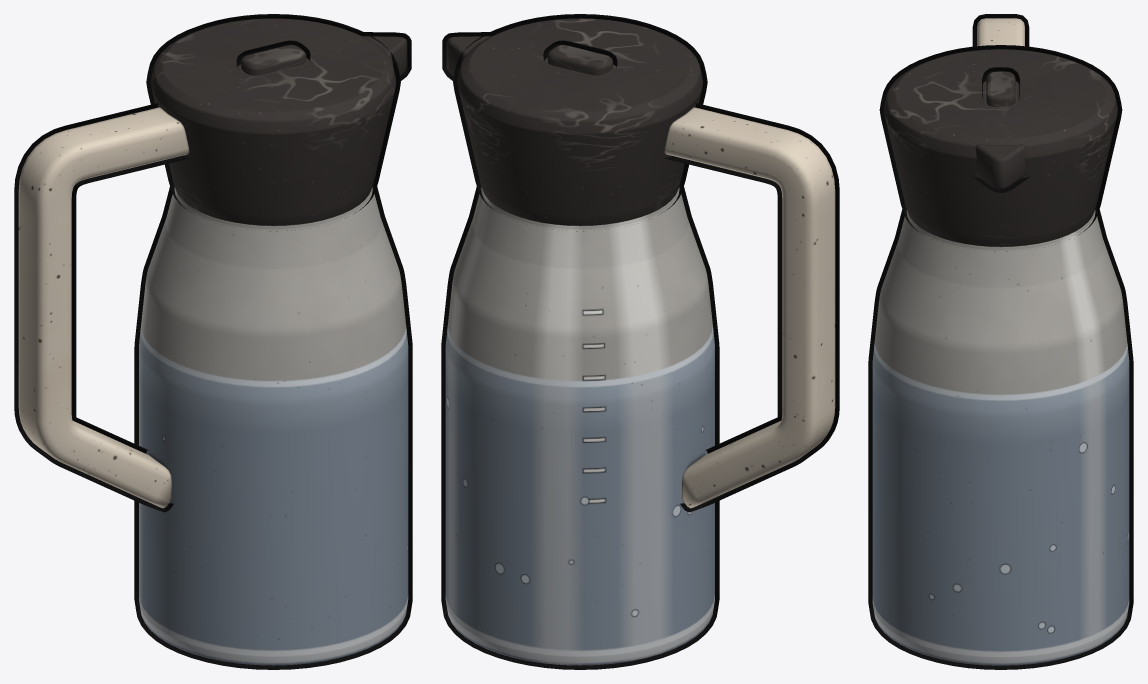
File: WaterJug.fbx
3 renders of one model, left to right at view 1: azimuth 30°, elevation 25°; view 2: azimuth 150°, elevation 25°; view 3: azimuth 270°, elevation 25°, orthographic. The views are drawn at different scales.
Visible parts, largest first — view 1: WaterJug; view 2: WaterJug; view 3: WaterJug.
Part boxes in pixels (x1,y1,x2,y2): WaterJug: (14,14,412,669); WaterJug: (441,14,839,669); WaterJug: (868,14,1133,669).
Bounding box in the file's own units: 0.1584 × 0.2217 × 0.0992.
Materials: 1 (1 with a texture image).
